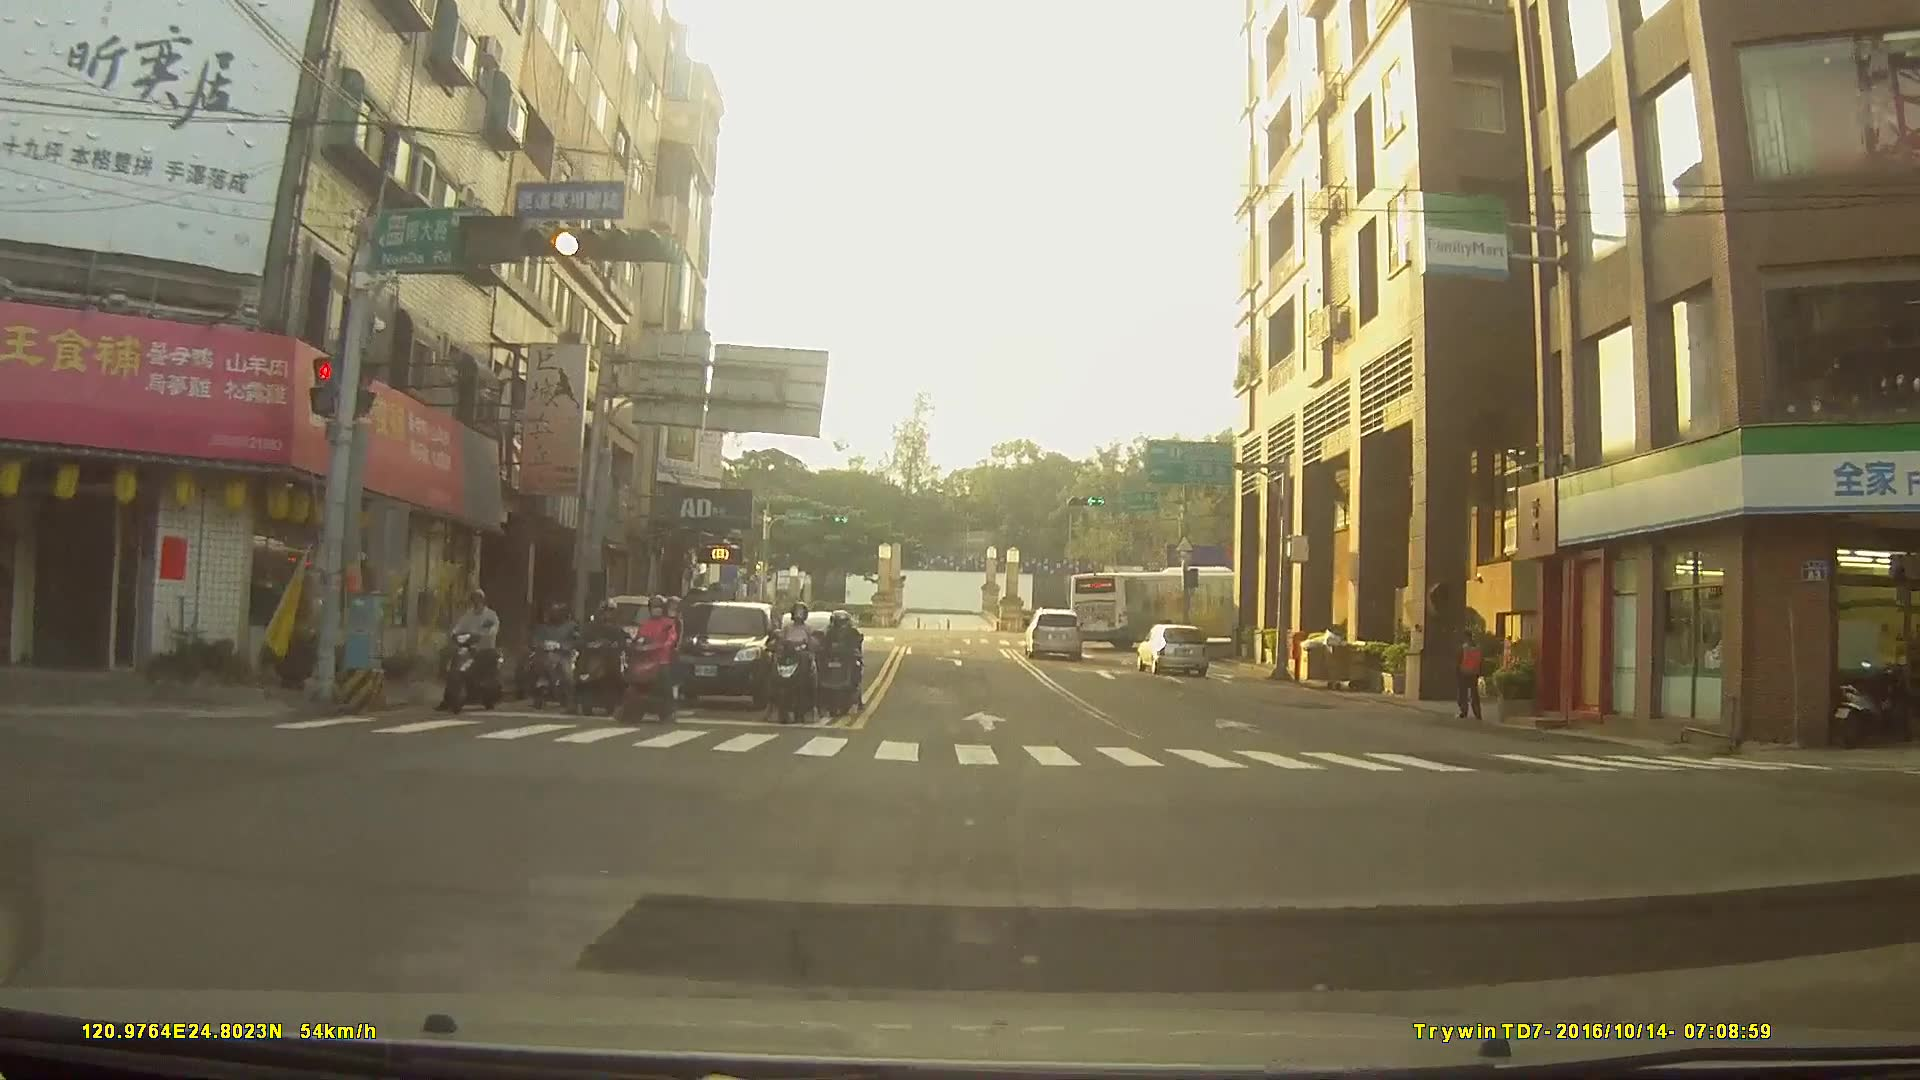pedestrian: (1454, 633, 1489, 726)
rider: (616, 596, 689, 731), (442, 593, 510, 717), (571, 601, 633, 717), (772, 610, 830, 728), (527, 603, 581, 712), (814, 617, 865, 720)
vehicle: (1068, 564, 1261, 645), (654, 598, 779, 710), (1136, 620, 1211, 674), (1023, 606, 1084, 657)
